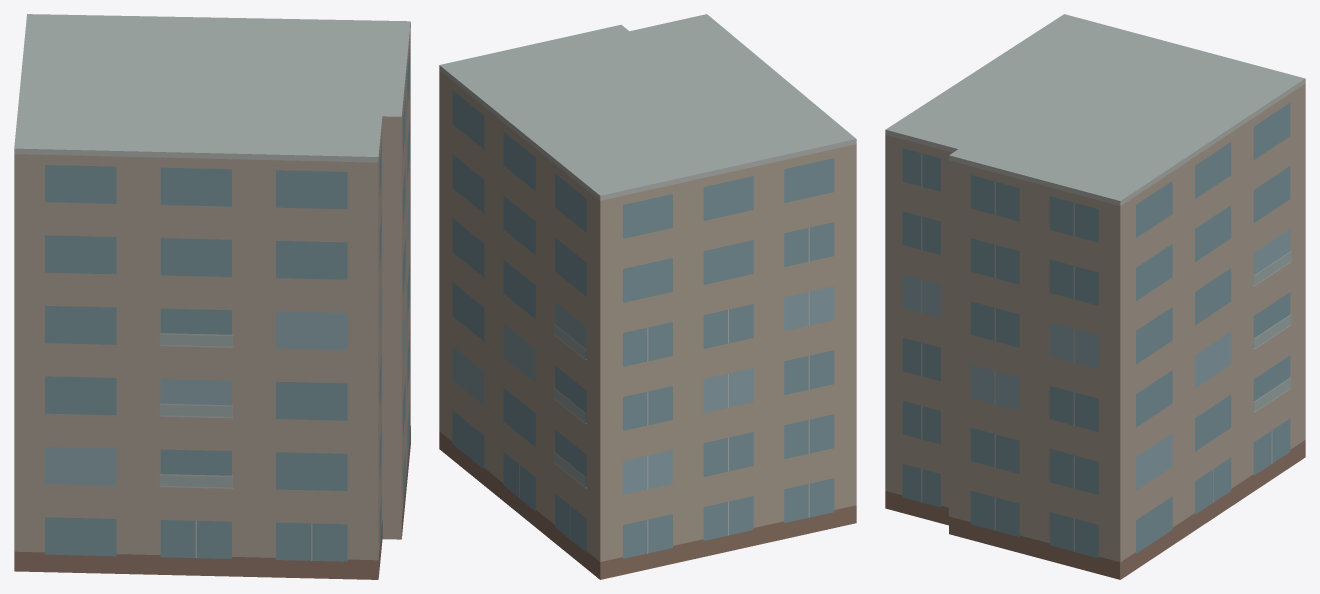
The model's file is survey-upis-32890418.glb.
3 renders of one model, left to right at view 1: azimuth 30°, elevation 25°; view 2: azimuth 150°, elevation 25°; view 3: azimuth 270°, elevation 25°, orthographic. The views are drawn at different scales.
Parts seen in each view (by area): view 1: survey-upis-32890418.tmp; view 2: survey-upis-32890418.tmp; view 3: survey-upis-32890418.tmp.
Boxes of the visible parts, bbox=[...] form: survey-upis-32890418.tmp: bbox=[14, 14, 410, 579]; survey-upis-32890418.tmp: bbox=[439, 14, 856, 579]; survey-upis-32890418.tmp: bbox=[885, 14, 1305, 579].
Bounding box in the file's own units: 19.55 × 18.45 × 18.55.
